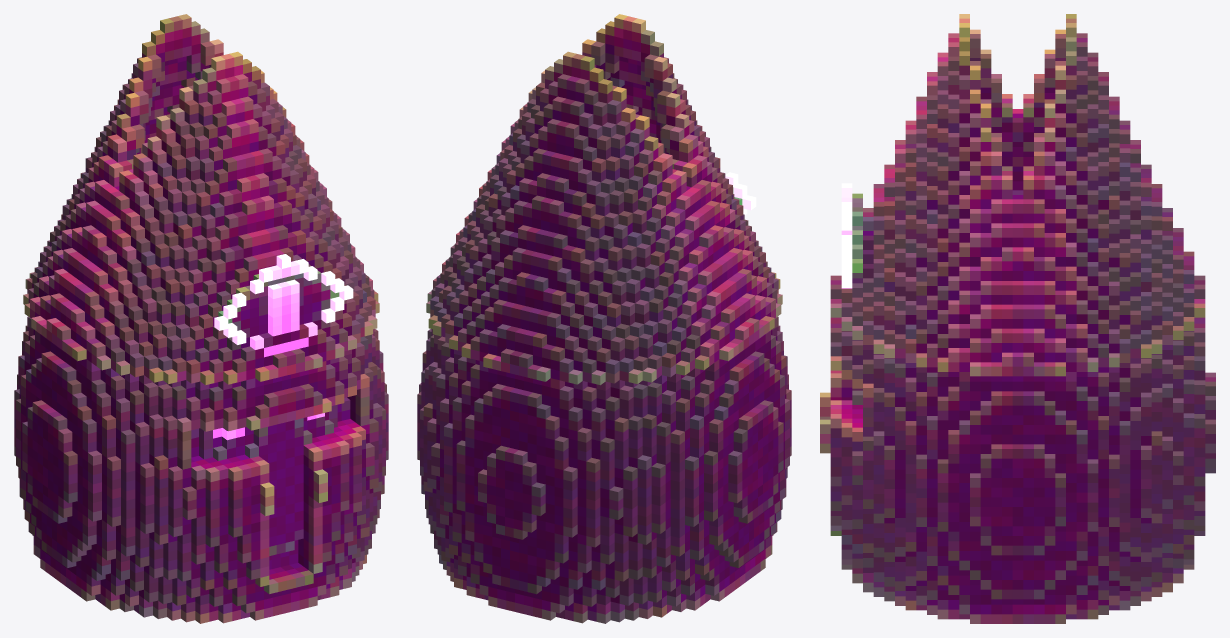
Rendered from armor_set2_head.glb.
The picture shows the model from 3 angles, left to right: view 1: azimuth 30°, elevation 25°; view 2: azimuth 150°, elevation 25°; view 3: azimuth 270°, elevation 25°; orthographic projection. The views are drawn at different scales.
Visible parts, largest first — view 1: Set2_AbyssalMitreHelm_7mm; view 2: Set2_AbyssalMitreHelm_7mm; view 3: Set2_AbyssalMitreHelm_7mm.
Part boxes in pixels (x1,y1,x2,y2): Set2_AbyssalMitreHelm_7mm: (14,14,388,623); Set2_AbyssalMitreHelm_7mm: (417,14,791,623); Set2_AbyssalMitreHelm_7mm: (820,14,1215,623).
Bounding box in the file's own units: 0.245 × 0.385 × 0.259.
